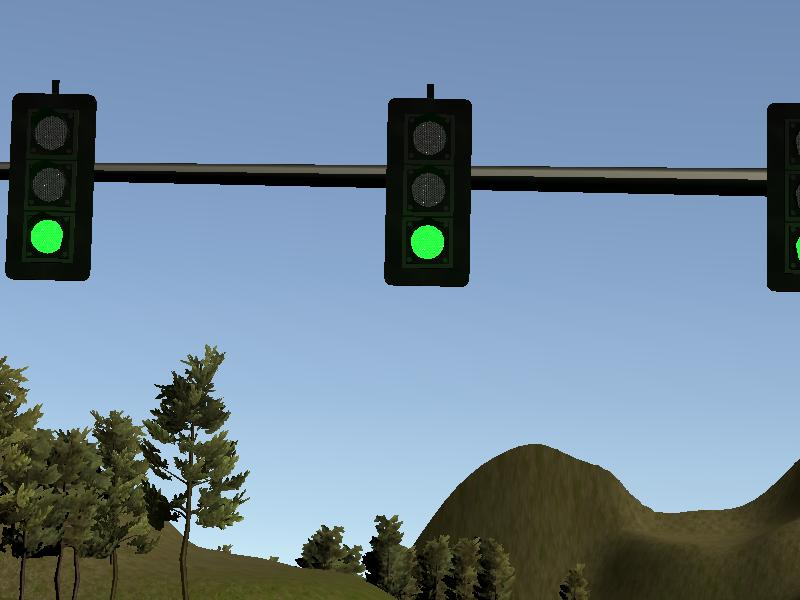green: (382, 95, 472, 288), (8, 92, 93, 281)
